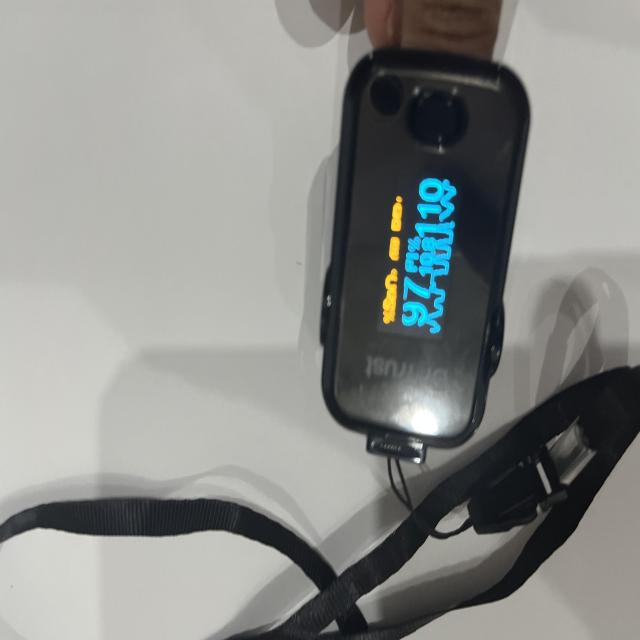spo2: (319, 45, 532, 462)
